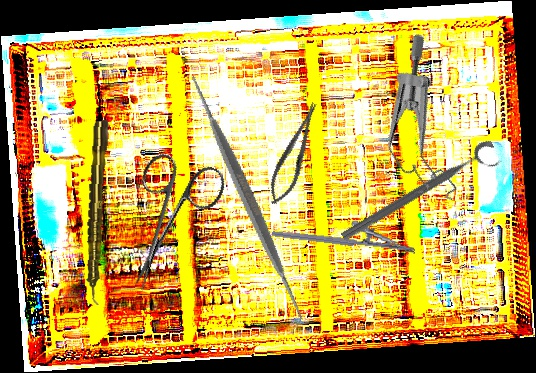Fixation Ring: (337, 137, 505, 255)
Handpiece: (83, 119, 110, 306)
Iris Scissors: (102, 144, 230, 305)
Needle Holder: (262, 98, 327, 210), (271, 210, 419, 255)
Spatula Surgical: (110, 61, 384, 335)
Speculum: (340, 30, 508, 218)
